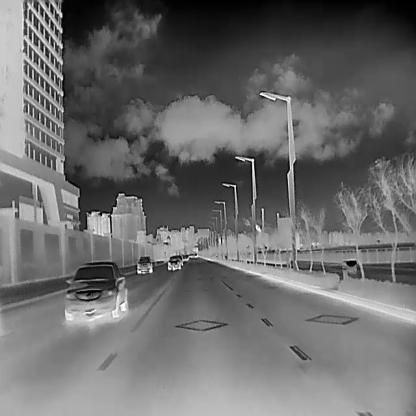car: (63, 260, 127, 320), (136, 255, 153, 273), (167, 254, 181, 269), (182, 253, 188, 261), (190, 253, 193, 258), (194, 252, 197, 257)
